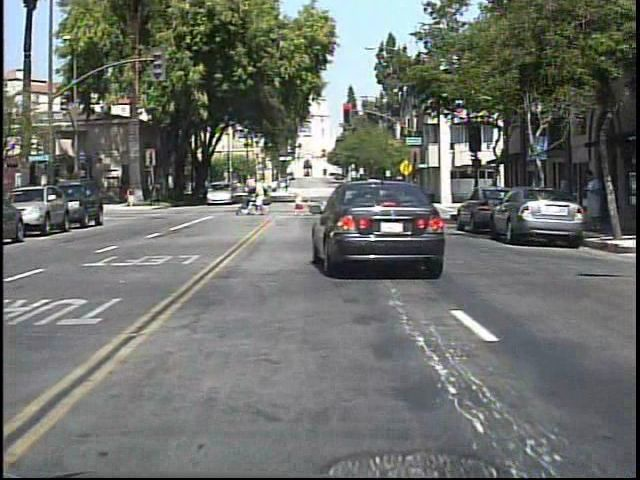person: (581, 166, 603, 236), (252, 177, 273, 216), (127, 185, 139, 210), (152, 179, 153, 208)
